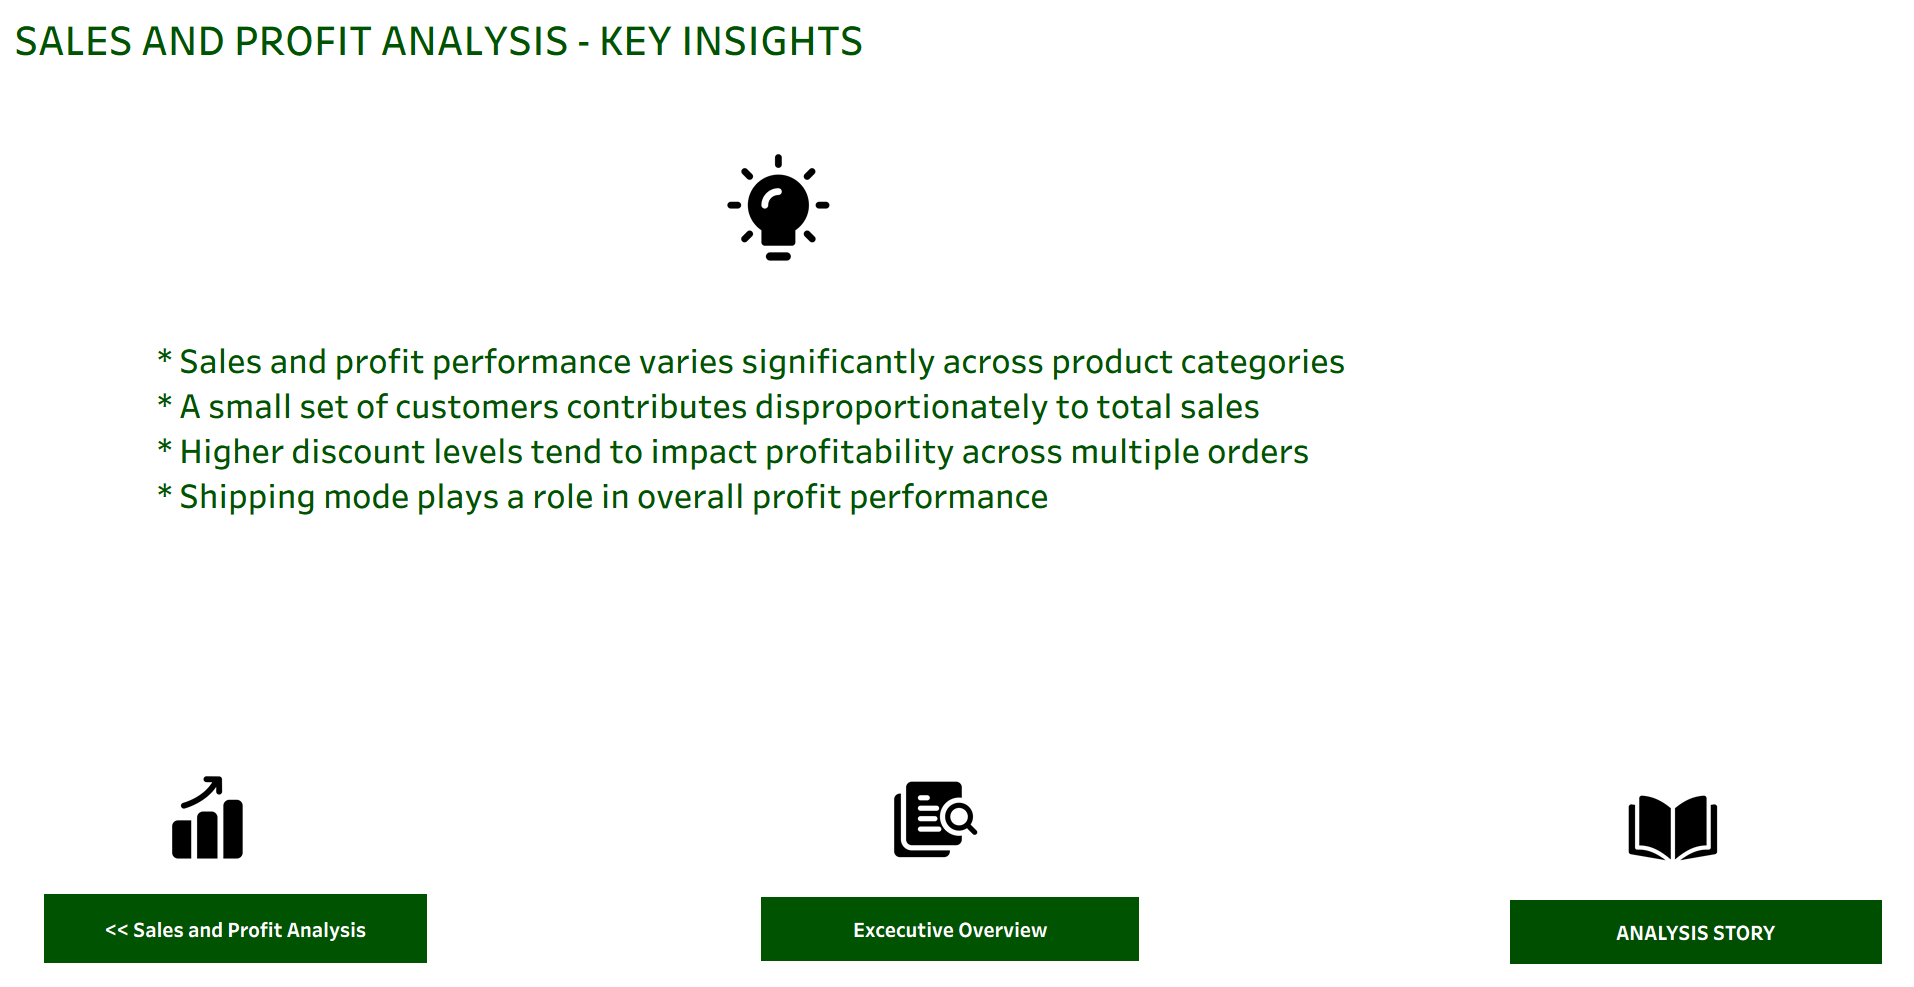

Layout of this report page (visuals, bound fields, positions):
{"tool":"tableau","page":{"name":"kEY INSIGHTS","canvas":[1000,1000],"units":"permille","ordinal":3},"visuals":[{"type":"title","box":[4.8,10,990.3,78.7]},{"type":"image","param":"C:/Users/Sreejith K R/Downloads/idea.png","box":[376.6,153.6,77.2,112.4]},{"type":"text","box":[80.7,181,770.9,499.4]},{"type":"image","param":"C:/Users/Sreejith K R/Downloads/sales.png","box":[83.9,776.5,48.9,94.9]},{"type":"image","param":"C:/Users/Sreejith K R/Downloads/research.png","box":[462.9,779,50.7,92.4]},{"type":"image","param":"C:/Users/Sreejith K R/Downloads/book.png","box":[847.3,787.8,51.3,93.6]},{"type":"dashboard-object","box":[23.3,901.4,199.8,69.9]},{"type":"dashboard-object","box":[396.8,903.9,196.9,64.9]},{"type":"dashboard-object","box":[787.1,907.6,194,64.9]}]}

Visuals, with their boxes on the dashboard's canvas, which has no fixed pixel size, in thousandths of its width and height (x1, y1, x2, y2). These are canvas units, not pixel positions in the 1914x987 screenshot, which may show the page scaled, cropped or inside an application window:
title: select_region(5, 10, 995, 89)
image: select_region(377, 154, 454, 266)
text: select_region(81, 181, 852, 680)
image: select_region(84, 776, 133, 871)
image: select_region(463, 779, 514, 871)
image: select_region(847, 788, 899, 881)
dashboard-object: select_region(23, 901, 223, 971)
dashboard-object: select_region(397, 904, 594, 969)
dashboard-object: select_region(787, 908, 981, 972)
